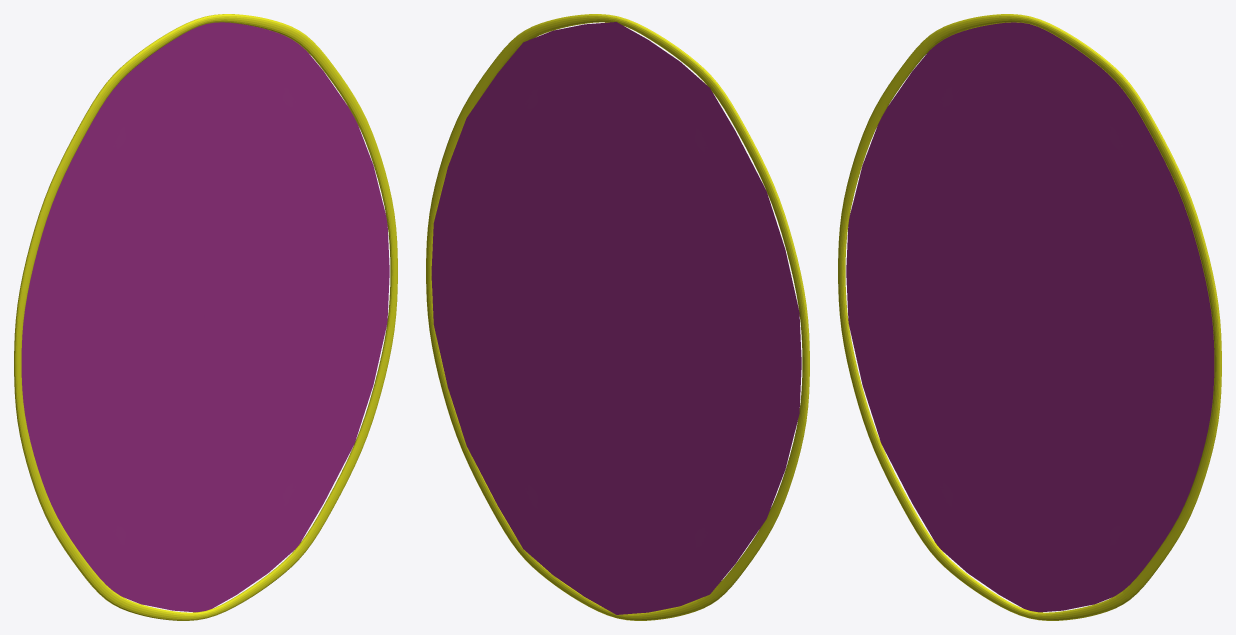
Rendered from Mirror.fbx.
The picture shows the model from 3 angles, left to right: view 1: azimuth 30°, elevation 25°; view 2: azimuth 150°, elevation 25°; view 3: azimuth 330°, elevation 25°; orthographic projection.
Parts seen in each view (by area): view 1: Circle.001, Circle; view 2: Circle.001, Circle; view 3: Circle.001, Circle.
Boxes of the visible parts, x1,y1,x2,y2 form: Circle.001: [21, 22, 389, 612]; Circle: [14, 14, 397, 620]; Circle.001: [431, 22, 801, 614]; Circle: [426, 14, 809, 620]; Circle.001: [846, 22, 1214, 612]; Circle: [838, 14, 1221, 620].
Size of the model in its own units: 327 by 491 by 3.88.
1 material, 1 textured.
